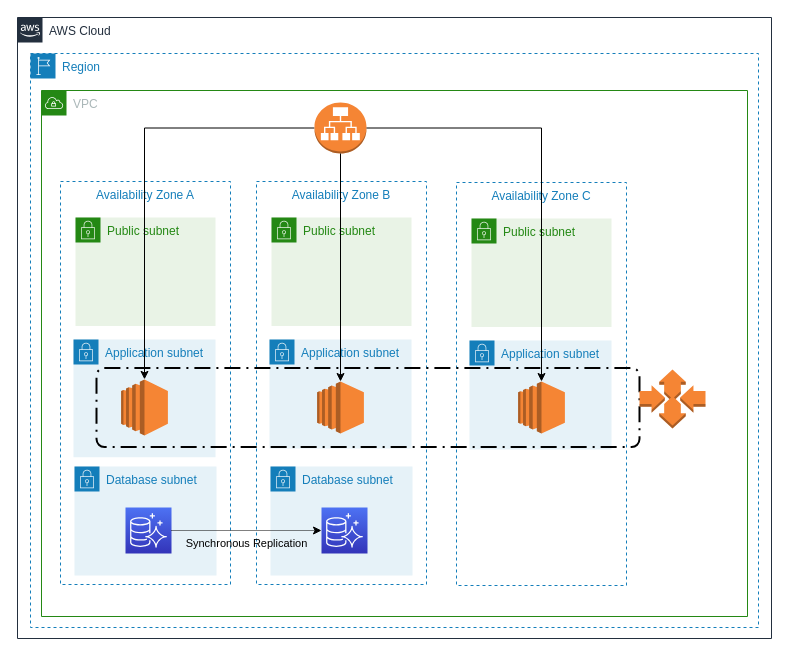
The diagram is 789 pixels wide and 656 high, and some of its shapes have lost their labels. The shapes that lost their labels are listed below. From the top down, each one's centre as x and y in pixels, then its label:
At point (672, 398): "Auto Scaling Group".
At point (148, 530): "Aurora Master (multi-AZ)".
At point (344, 530): "Aurora Standby (multi-AZ)".
